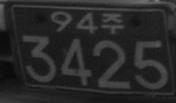2: (93, 38, 130, 89)
3: (22, 34, 56, 82)
4: (61, 37, 92, 85), (76, 12, 97, 34)
5: (134, 39, 167, 90)
9: (50, 10, 72, 32)
주: (100, 12, 124, 34)
